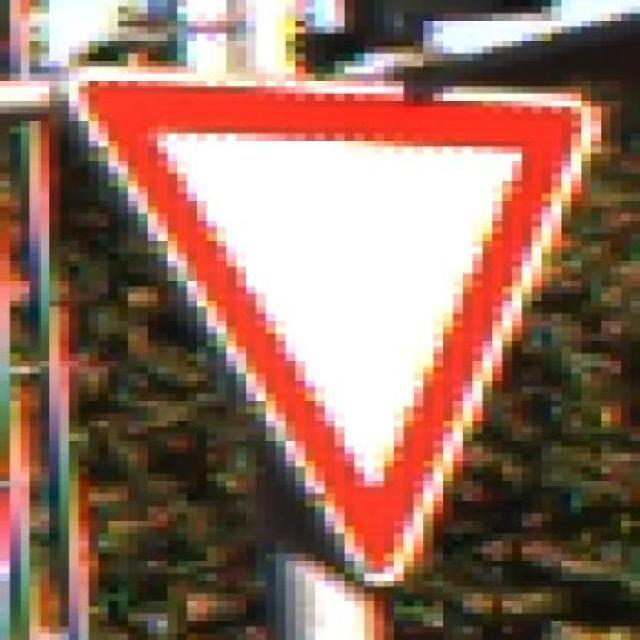Give Way: (49, 60, 611, 594)
